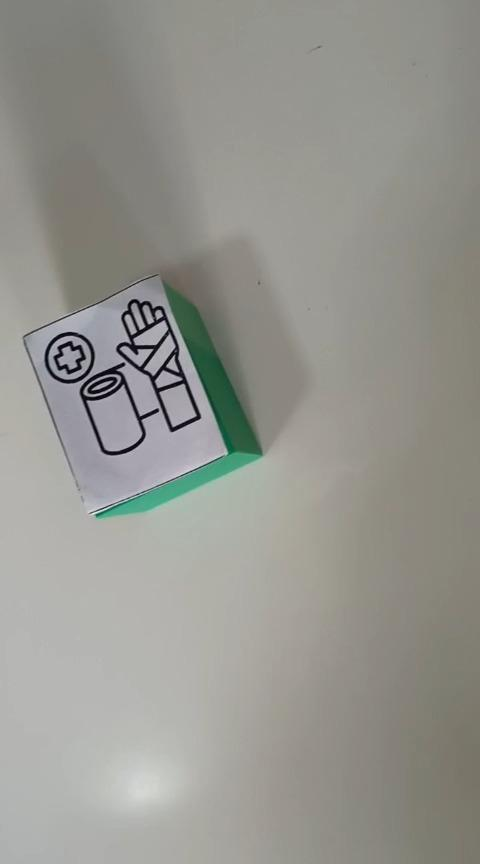Bandages: (22, 271, 263, 517)
